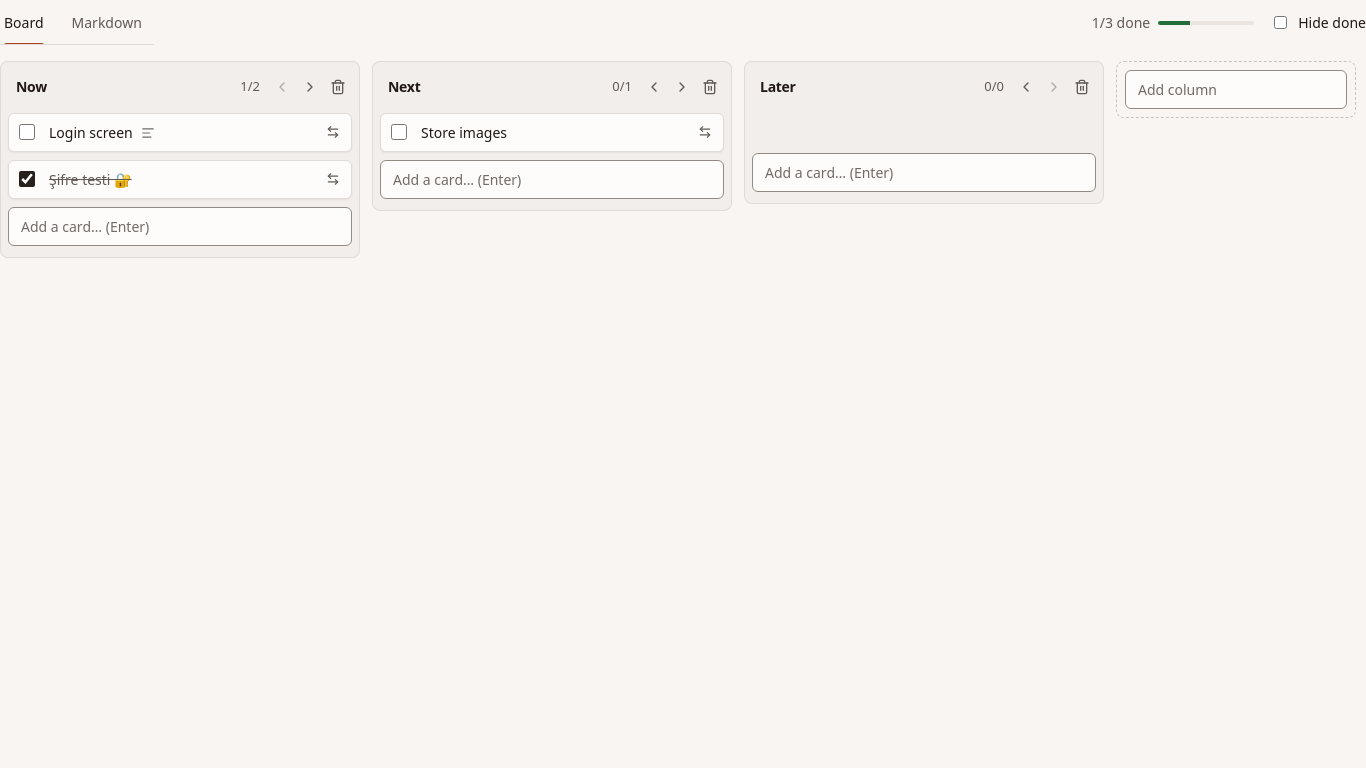
RoadmapTab › moves a card with the move menu
Step 1. Click the button named "Move card \"Login screen\"" → (333, 132), box 319,118 -> 347,146
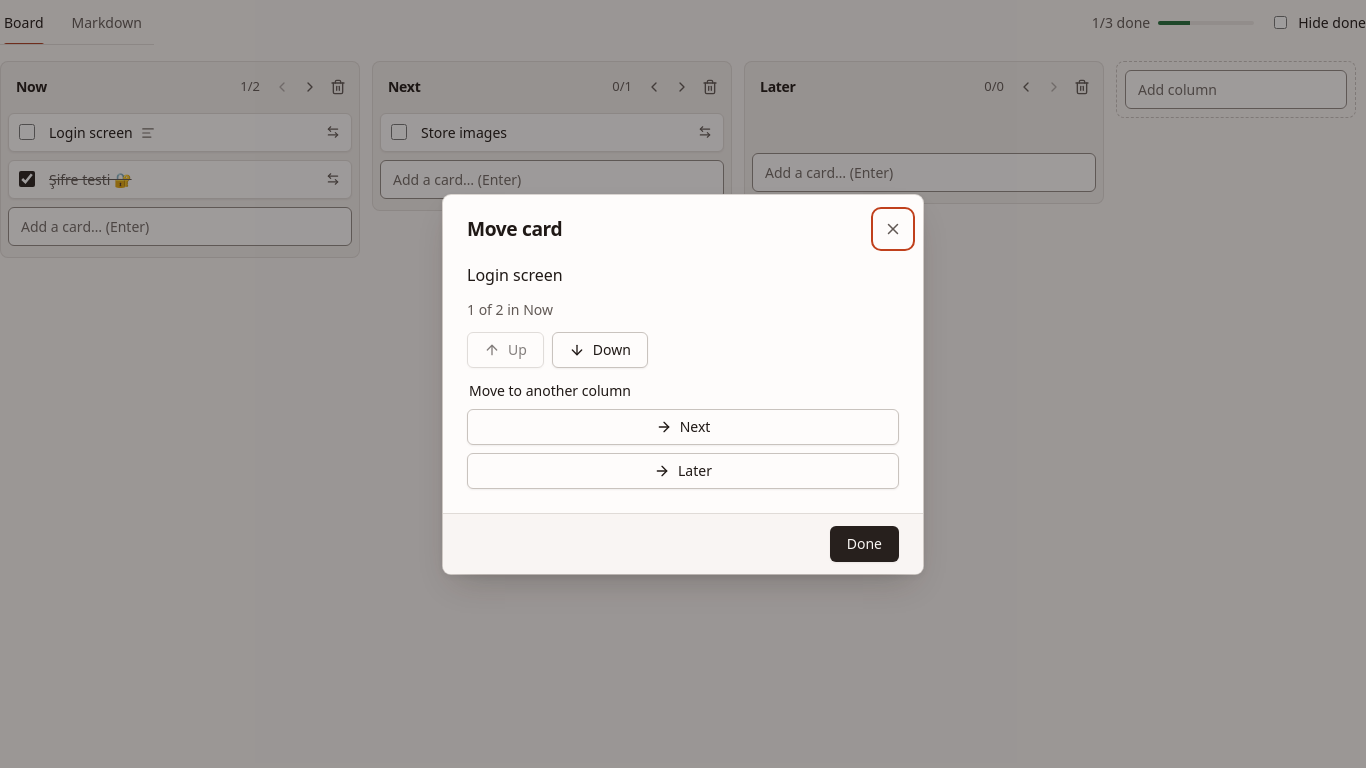
Step 2. Click the button "Down" → (600, 350), box 552,332 -> 648,368
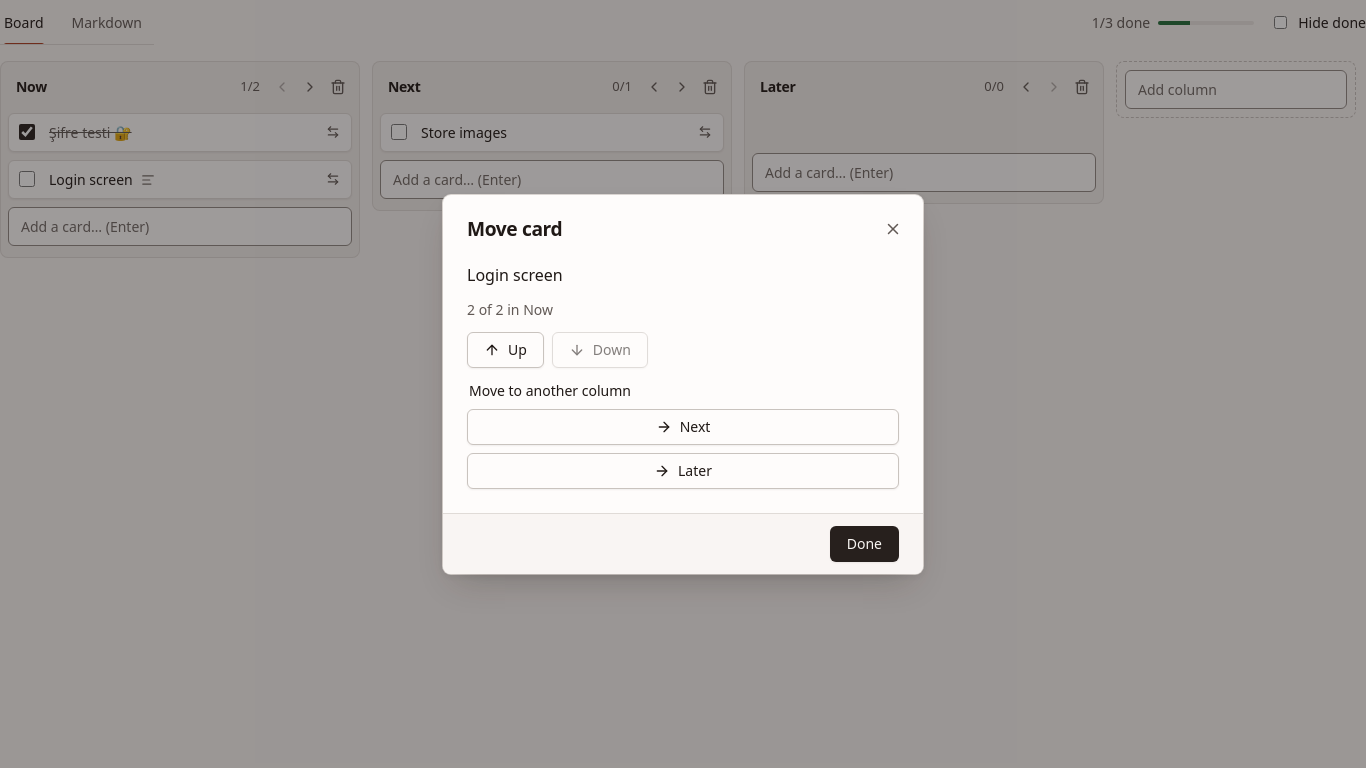
Expected: the text "2 of 2 in Now" is shown, 467,300 -> 553,318
Step 3. Click the button with aria-label "Move to Later" → (683, 470), box 467,452 -> 899,488
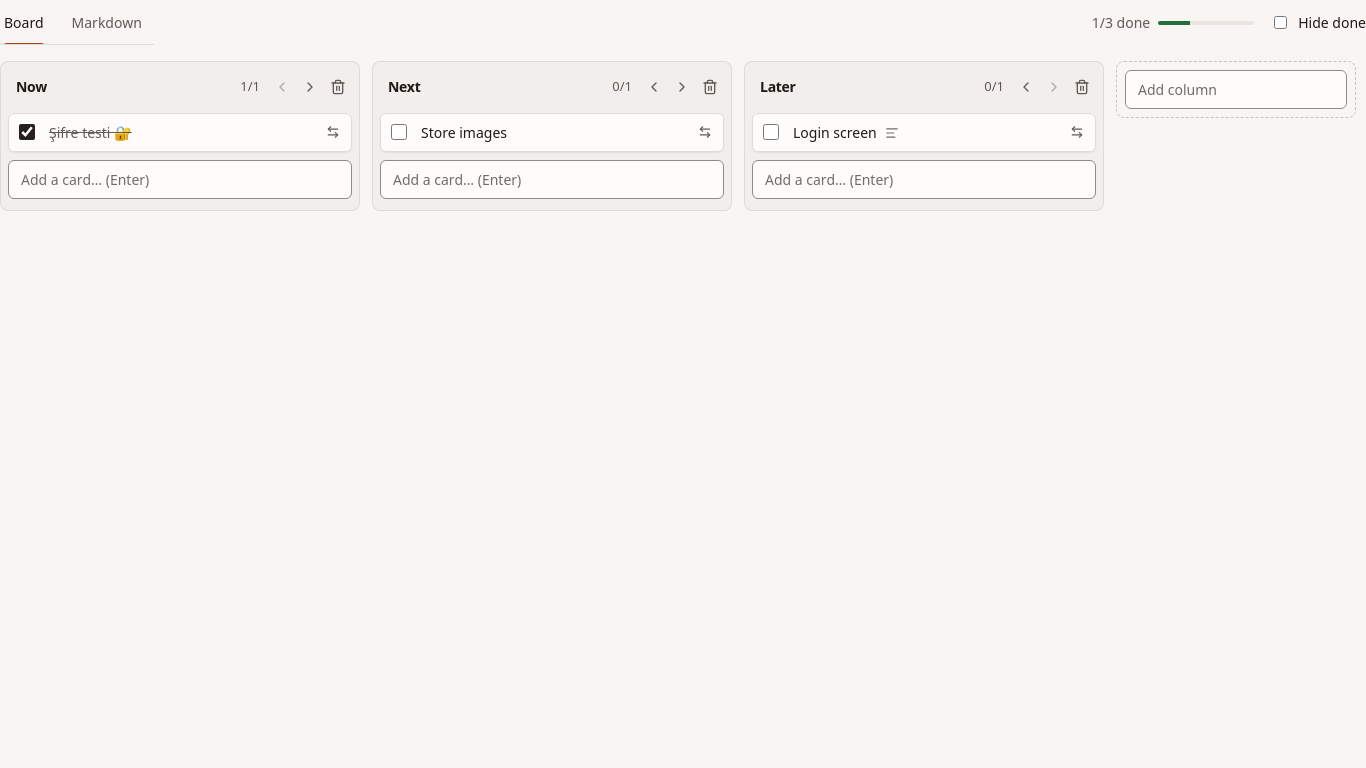
Expected: the dialog is gone
